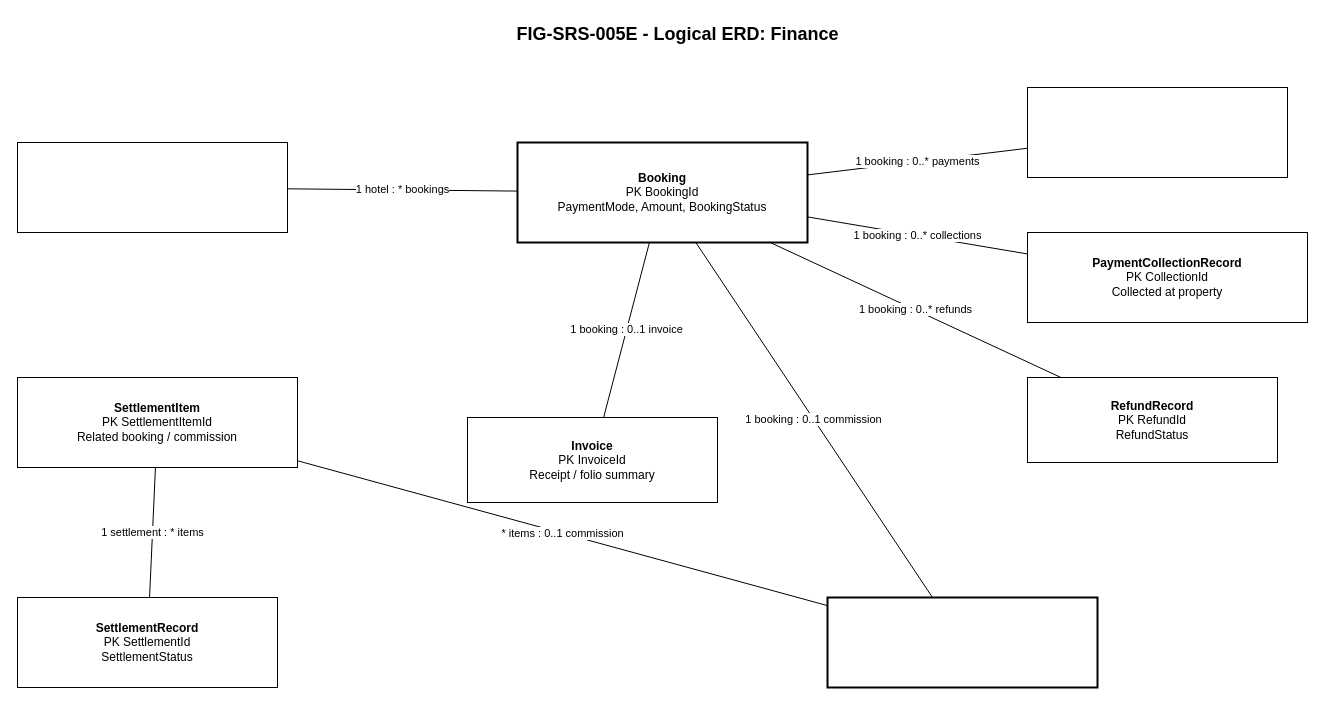
The diagram is 1325 pixels wide and 705 high, and some of its shapes have lost their labels. The shapes that lost their labels are listed below. From the top down, each one's centre as x and y in pixels, then its label:
At pixel 1157 132: "PaymentTransaction PK PaymentId GatewayRef, Status".
At pixel 152 187: "HotelProperty PK HotelId Commission configuration context".
At pixel 962 642: "CommissionRecord PK CommissionId RateSnapshot, Amount".
